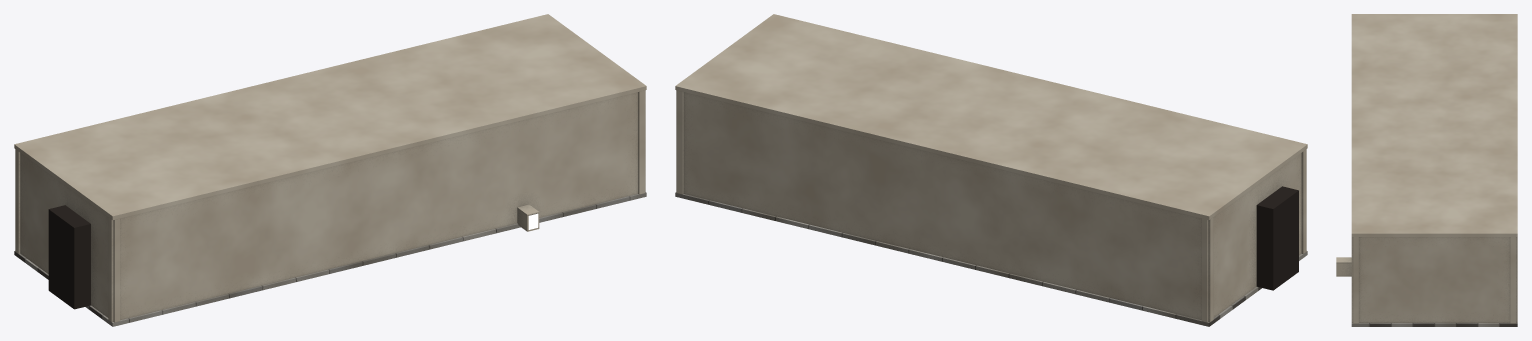
File: hall_of_doors.gltf
3 renders of one model, left to right at view 1: azimuth 30°, elevation 25°; view 2: azimuth 150°, elevation 25°; view 3: azimuth 270°, elevation 25°, orthographic. The views are drawn at different scales.
Visible parts, largest first — view 1: MESH_Plaster, MESH_Ceiling, MESH_Ink, MESH_StoneFloor; view 2: MESH_Plaster, MESH_Ceiling, MESH_Ink, MESH_StoneFloor; view 3: MESH_Ceiling, MESH_Plaster, MESH_StoneFloor.
Part boxes in pixels (<box>): MESH_Plaster: <box>15,90,645,322</box>; MESH_Ceiling: <box>14,14,646,219</box>; MESH_Ink: <box>48,205,90,309</box>; MESH_StoneFloor: <box>14,192,646,326</box>; MESH_Plaster: <box>676,90,1306,322</box>; MESH_Ceiling: <box>675,14,1307,219</box>; MESH_Ink: <box>1256,186,1298,290</box>; MESH_StoneFloor: <box>675,192,1307,326</box>; MESH_Ceiling: <box>1351,14,1517,236</box>; MESH_Plaster: <box>1336,237,1517,323</box>; MESH_StoneFloor: <box>1351,323,1517,326</box>.
Size of the model in its own units: 14.8 by 2.85 by 5.03.
46 materials, 45 textured.
